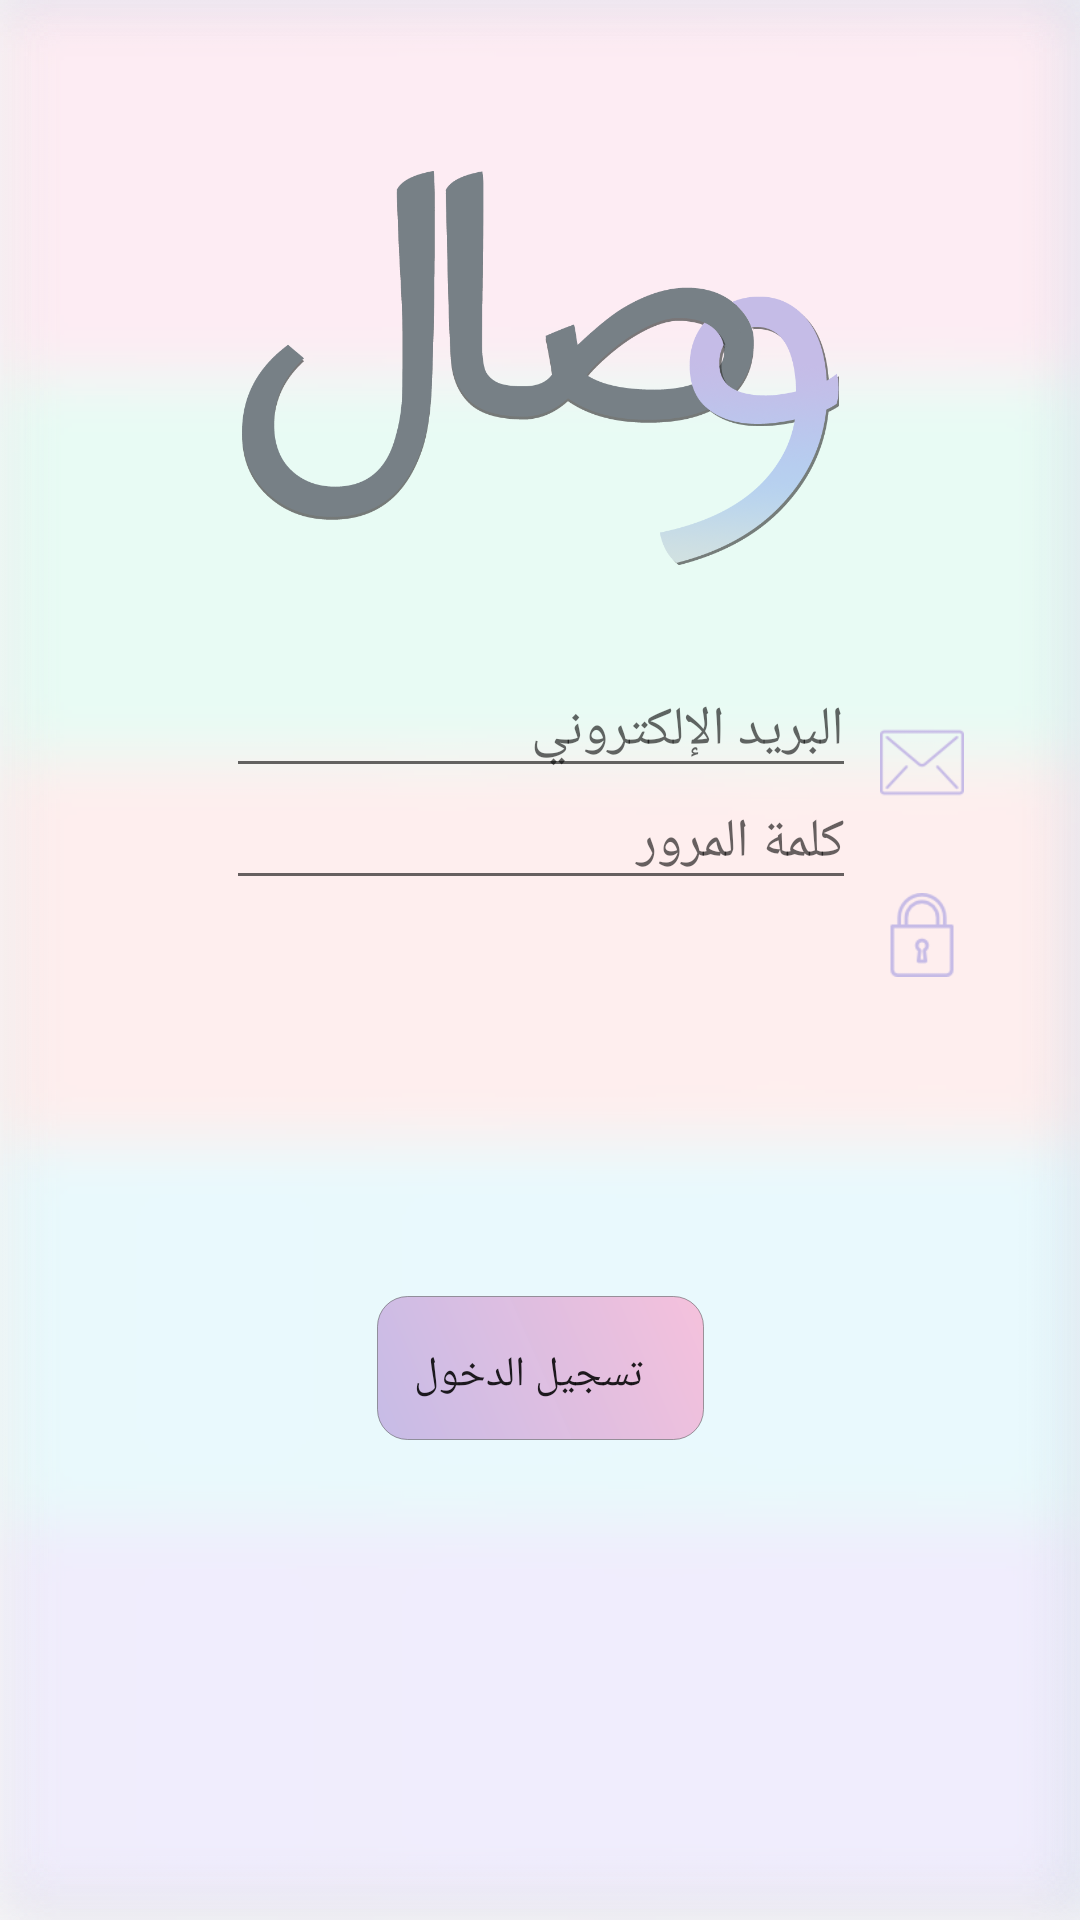

Named icons in this screenshot (1080w x 1920h) and their centers, (x,y):
email: (922,773)
lock: (922,935)
